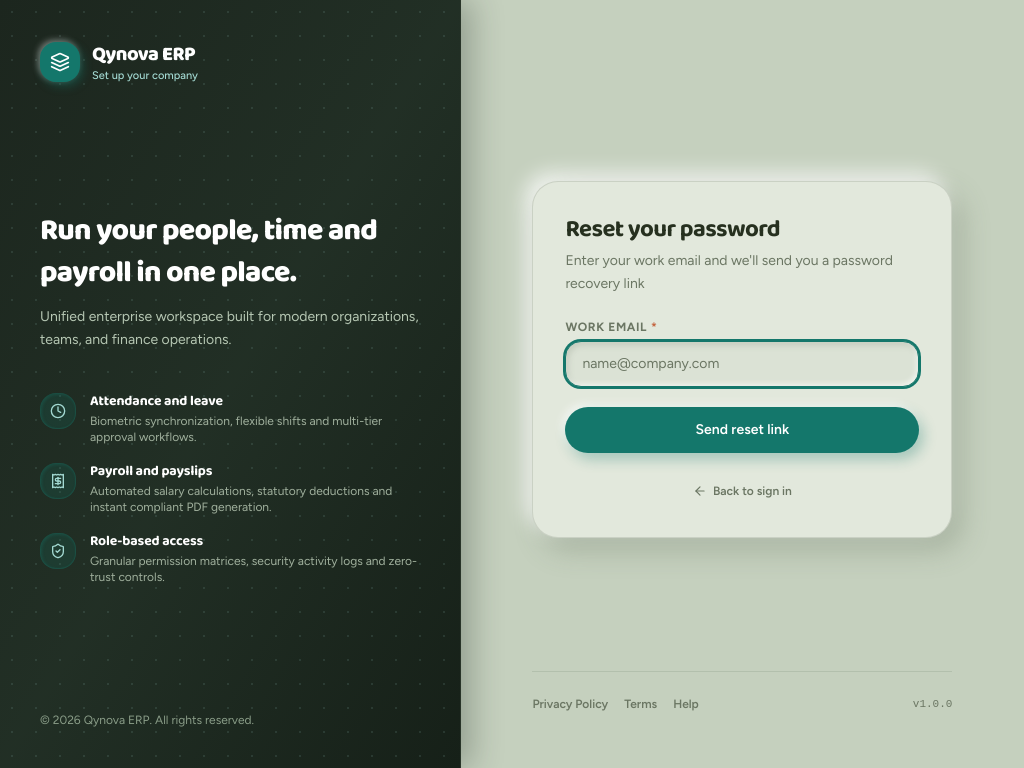
Test: Qynova ERP - Enterprise Login Experience Suite › 6. Forgot Password Experience › shows error message when unregistered account is submitted
Type "unknown_unregistered@company.com" into the field labelled "Work email *". click: (742, 364)
box: [565,341,919,387]
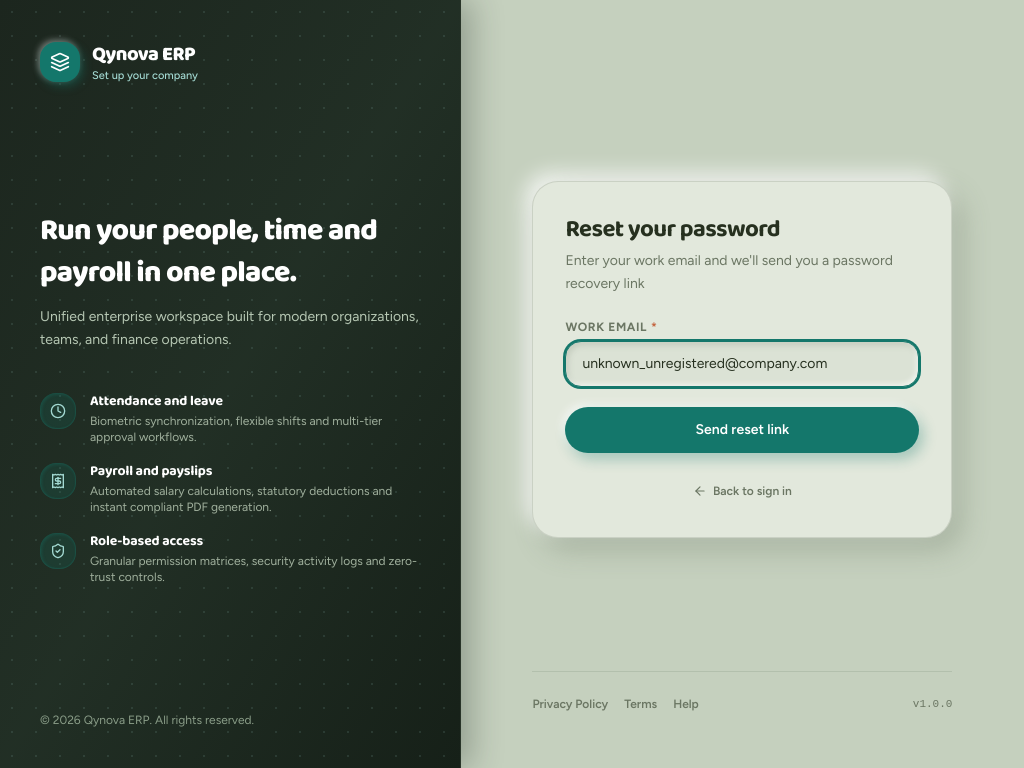
Click the button "Send reset link". click: (742, 430)
box: [565,407,919,453]
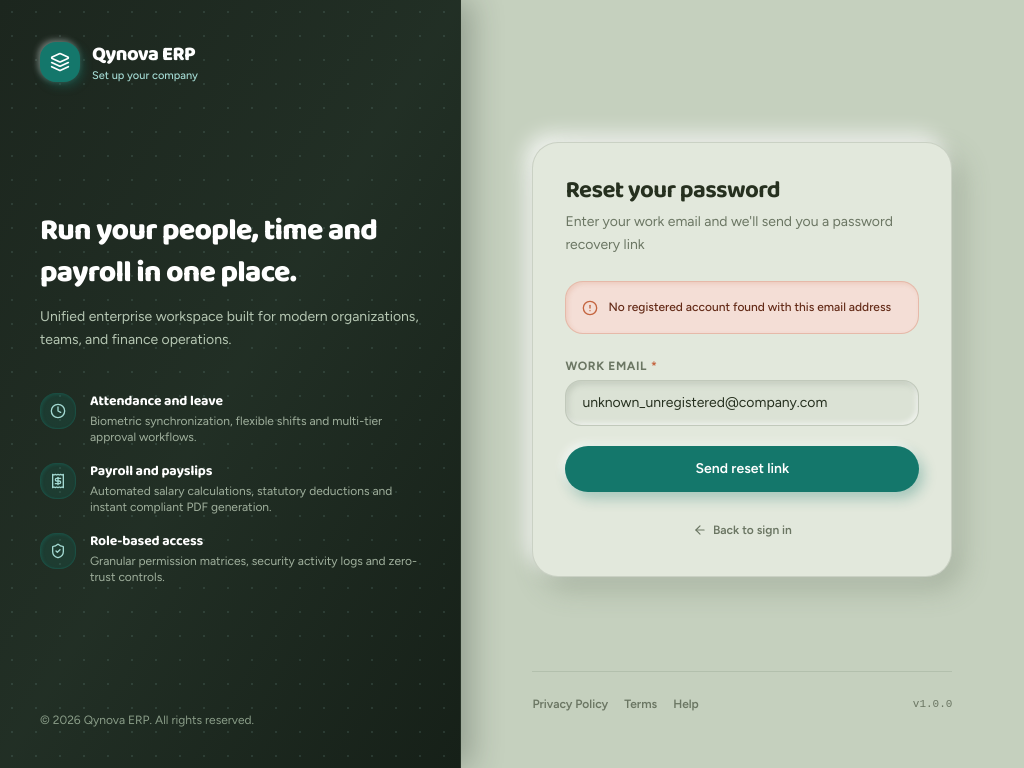
Expected: the text "No registered account found with this email address" is shown, [608,298,891,317]
